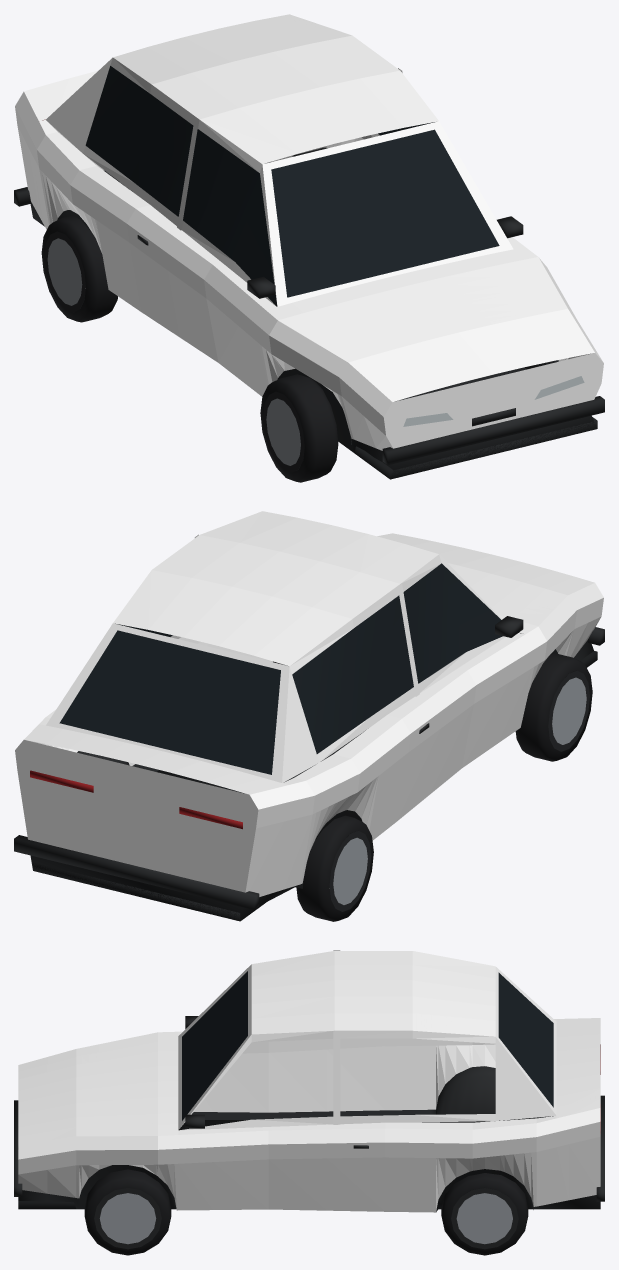
The model's file is ottavo_areia.glb.
The picture shows the model from 3 angles, top to bottom: view 1: azimuth 30°, elevation 25°; view 2: azimuth 150°, elevation 25°; view 3: azimuth 270°, elevation 25°; orthographic projection. The views are drawn at different scales.
Parts seen in each view (by area): view 1: Body_Paint, Body_Details, Mount_FrontLeft_Wheel_Details, Mount_RearLeft_Wheel_Details; view 2: Body_Paint, Body_Details, Mount_FrontLeft_Wheel_Details, Mount_RearLeft_Wheel_Details; view 3: Body_Paint, Body_Details, Mount_FrontRight_Wheel_Details, Mount_RearRight_Wheel_Details.
Part boxes in pixels (x1,y1,x2,y2): Body_Paint: [15, 14, 603, 450]; Body_Details: [14, 66, 604, 479]; Mount_FrontLeft_Wheel_Details: [260, 374, 338, 482]; Mount_RearLeft_Wheel_Details: [41, 215, 117, 322]; Body_Paint: [15, 511, 603, 896]; Body_Details: [14, 563, 604, 921]; Mount_FrontLeft_Wheel_Details: [515, 653, 592, 761]; Mount_RearLeft_Wheel_Details: [296, 815, 373, 921]; Body_Paint: [18, 950, 600, 1212]; Body_Details: [14, 971, 604, 1212]; Mount_FrontRight_Wheel_Details: [84, 1169, 171, 1255]; Mount_RearRight_Wheel_Details: [441, 1173, 528, 1255].
Size of the model in its own units: 1.79 by 1.54 by 3.88.
Materials: 2 (1 with a texture image).
